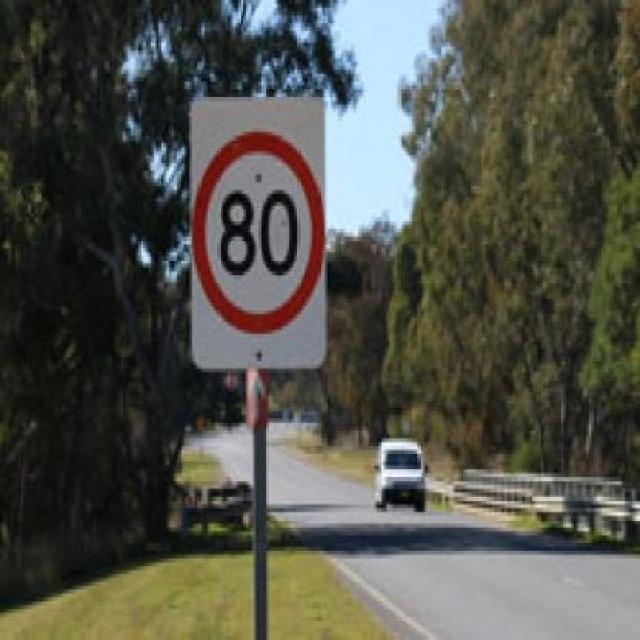forb_speed_over_80: (189, 132, 325, 338)
